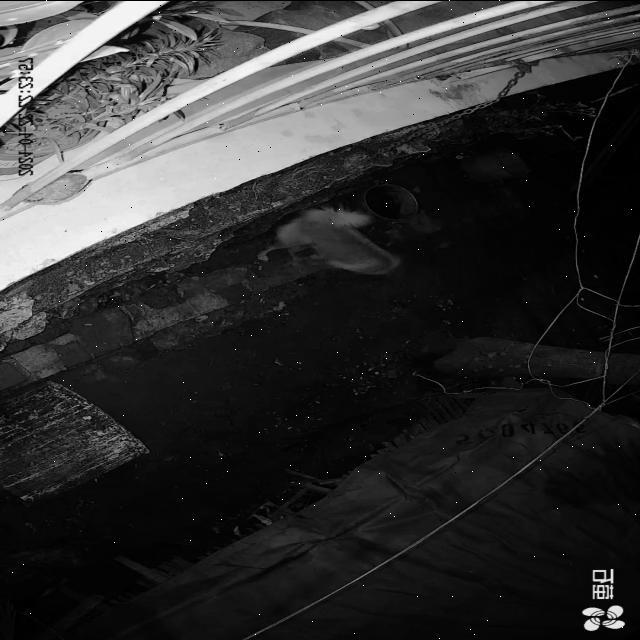dog: (256, 206, 404, 276)
